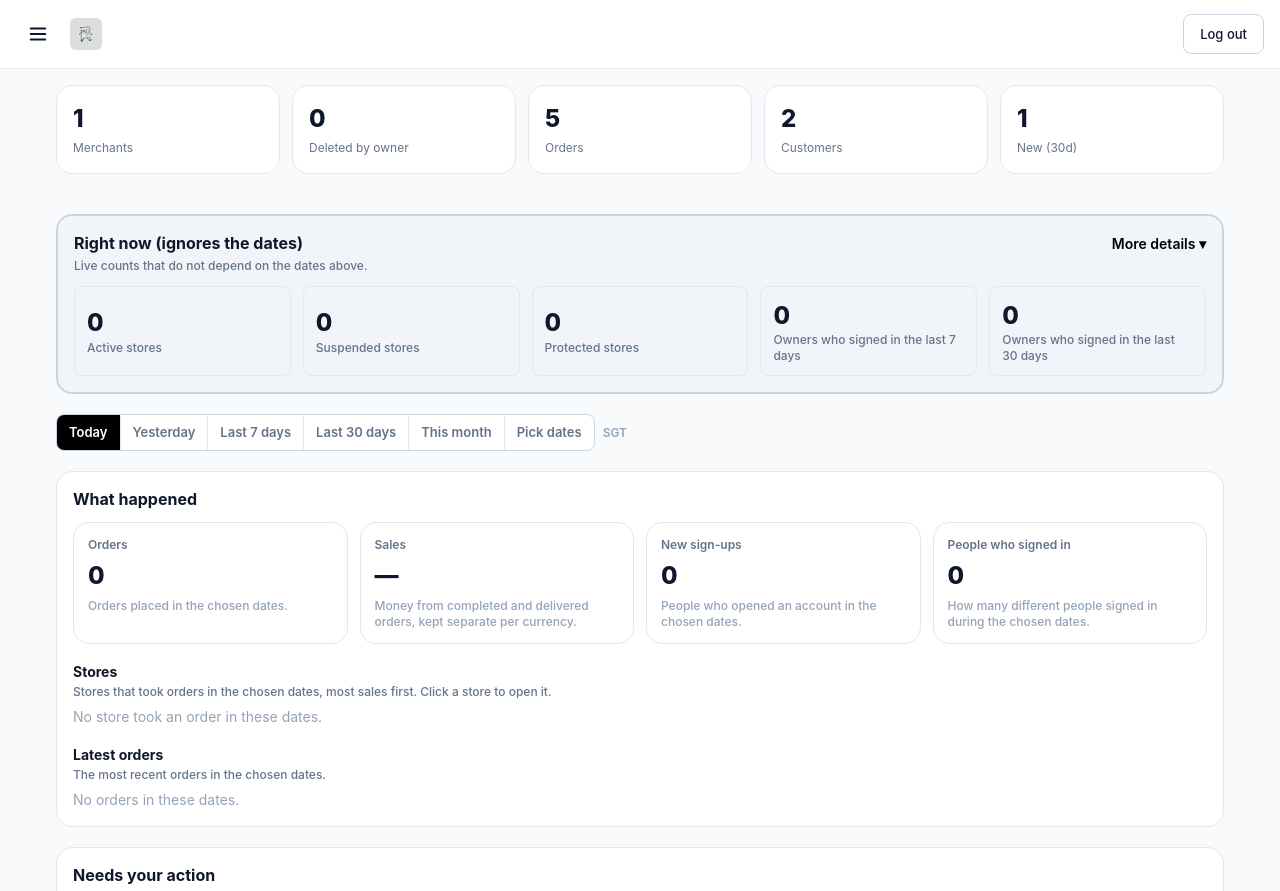
it: AdminApp › on mobile, a menu button opens the nav drawer
This screenshot has width=1280, height=891.
Expected: the text "New (30d)" is shown, 1017,140 -> 1077,155
What coordinates should you click on to do the following:
click the button named "Open navigation"
I would click on:
 (38, 34)
Its box is 16,12 -> 60,56.
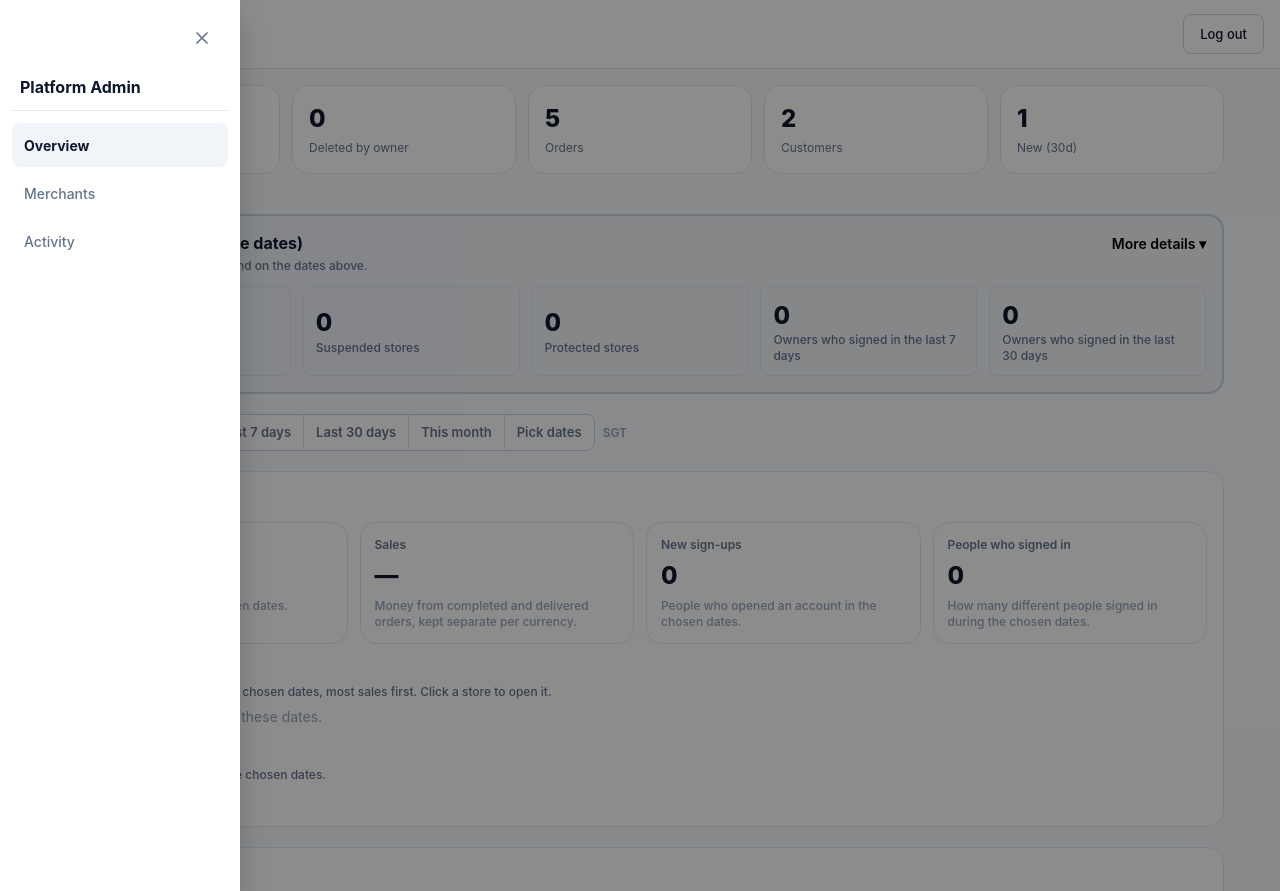
What coordinates should you click on to do the following:
click the button "Merchants"
I would click on:
 (120, 193)
Its box is 12,171 -> 228,215.
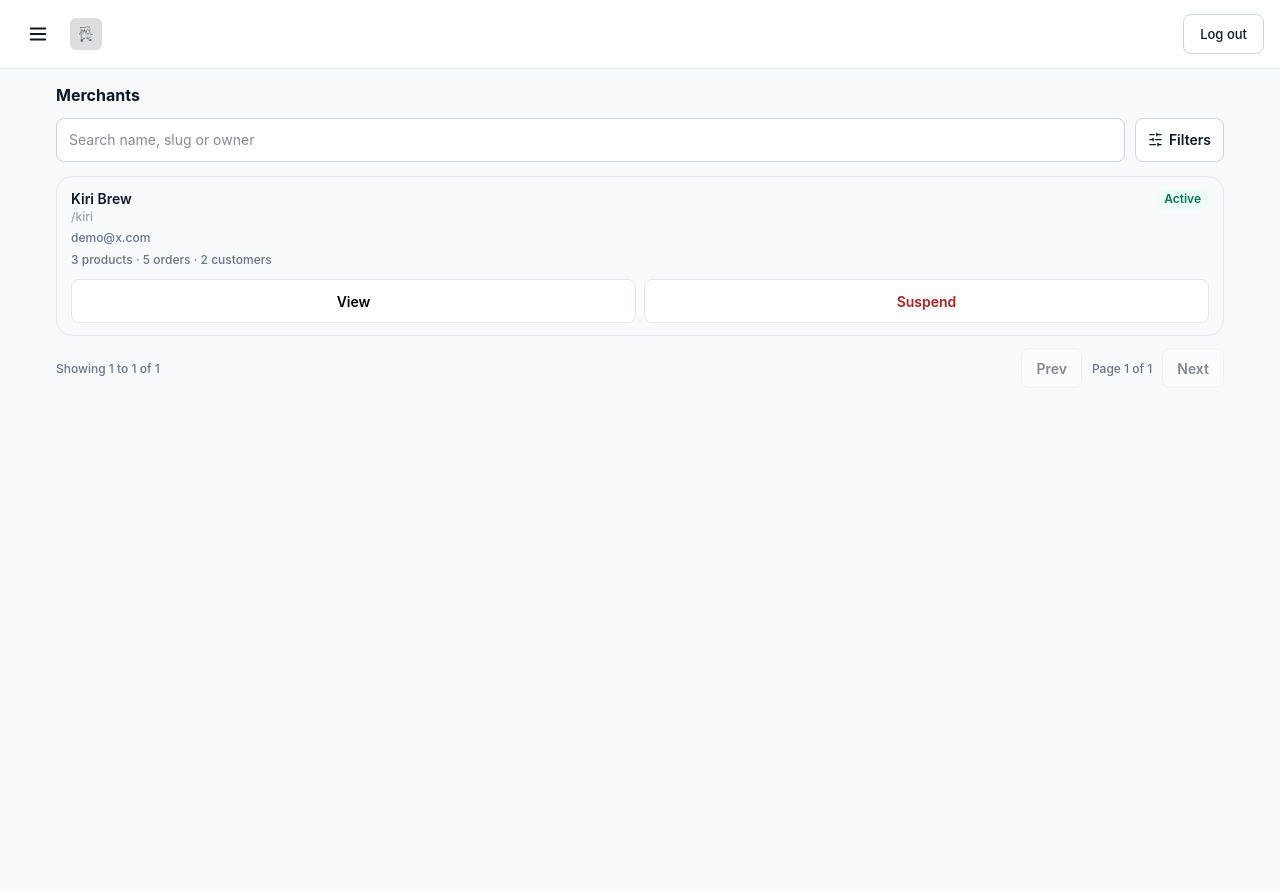
Expected: the text "Kiri Brew" is shown, 71,189 -> 132,209
